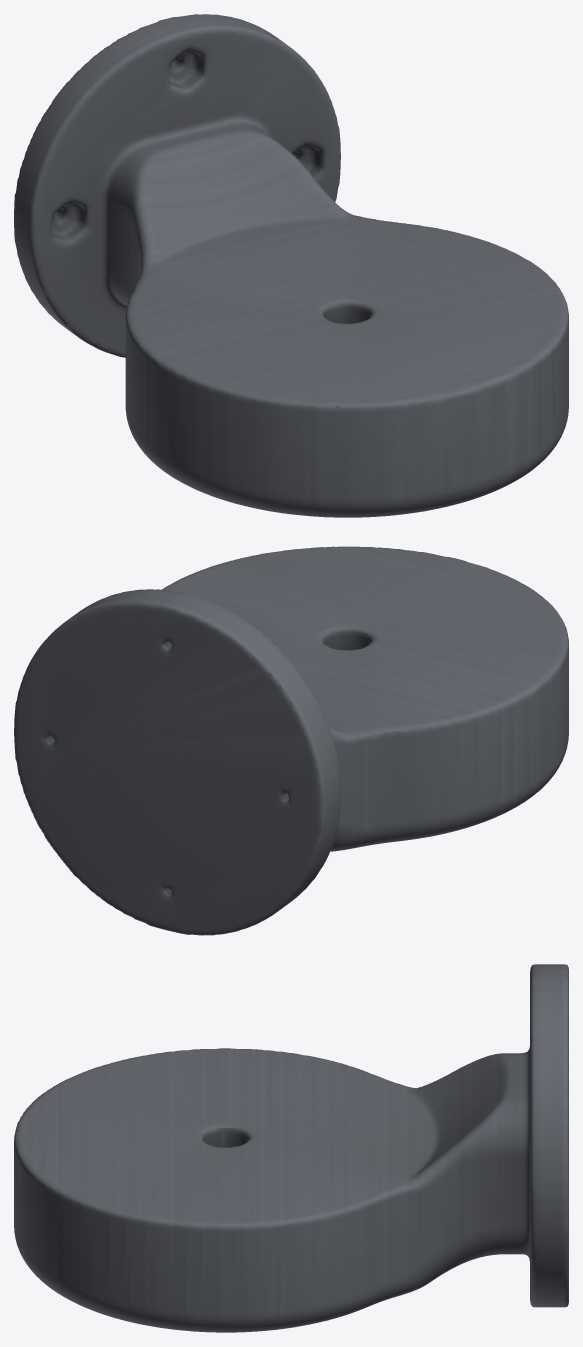
File: left_elbow_midle.obj
The picture shows the model from 3 angles, top to bottom: view 1: azimuth 30°, elevation 25°; view 2: azimuth 150°, elevation 25°; view 3: azimuth 270°, elevation 25°; orthographic projection. The views are drawn at different scales.
Parts seen in each view (by area): view 1: left_elbow_midle; view 2: left_elbow_midle; view 3: left_elbow_midle.
Part boxes in pixels (x1,y1,x2,y2): left_elbow_midle: [14, 14, 568, 517]; left_elbow_midle: [14, 546, 568, 935]; left_elbow_midle: [14, 964, 568, 1332].
Size of the model in its own units: 0.0547 by 0.0443 by 0.0717.
Materials: 1 (1 with a texture image).
